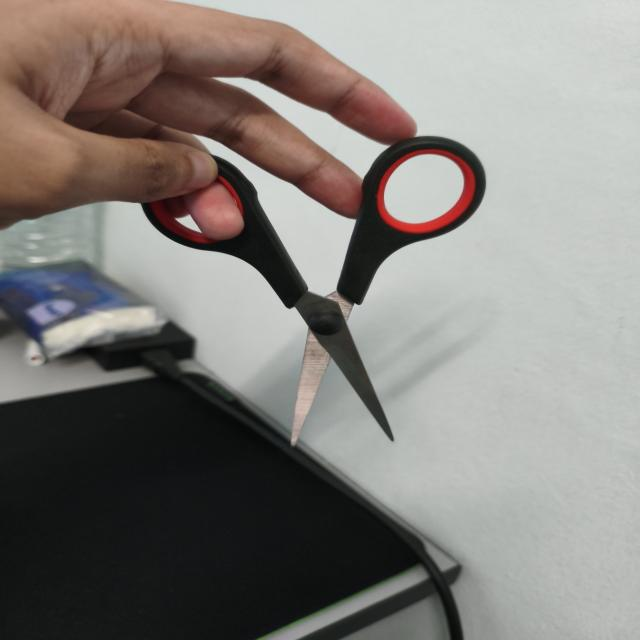scissor: (142, 136, 485, 445)
